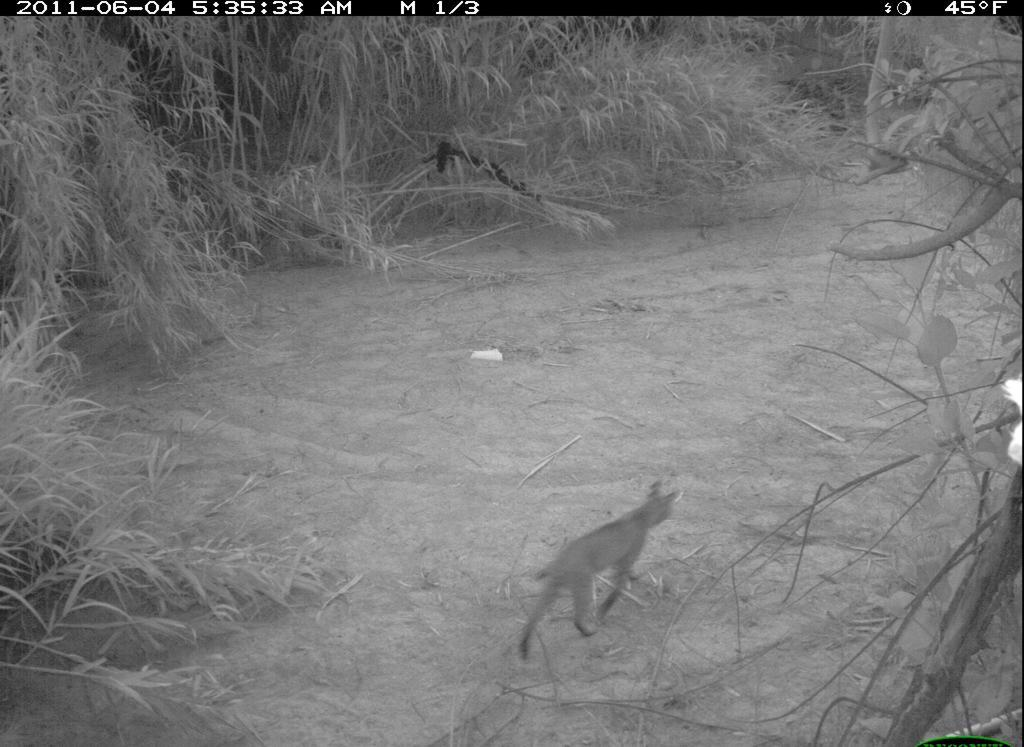bobcat: (511, 478, 685, 665)
